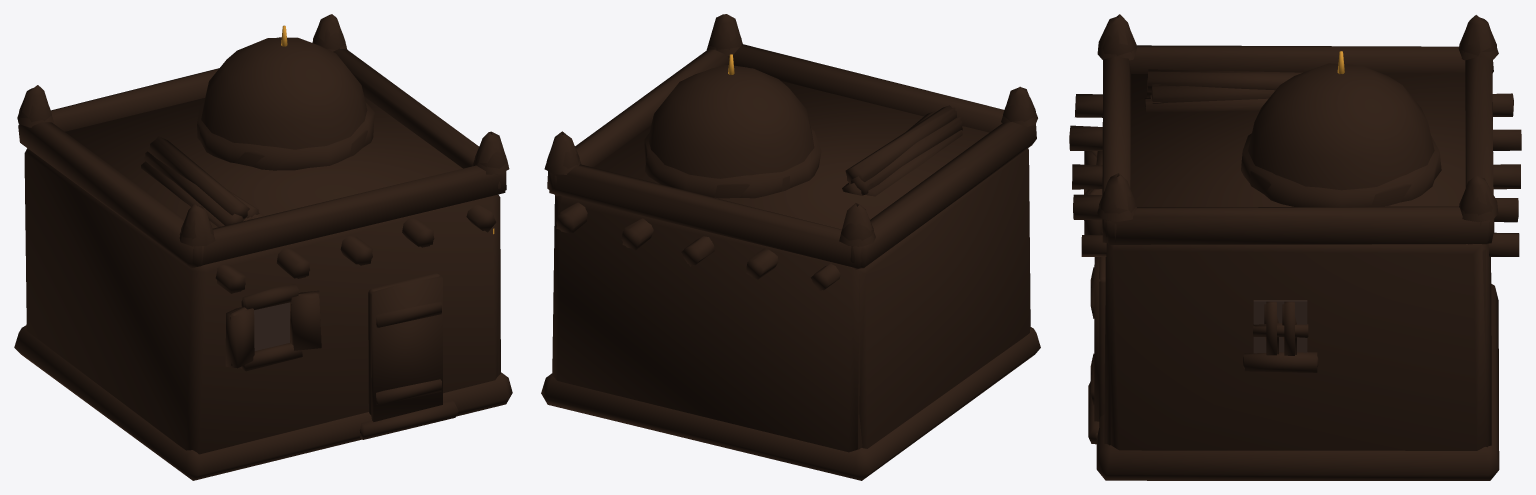
Rendered from house_c.glb.
3 views of the same model, side by side, from view 1: azimuth 30°, elevation 25°; view 2: azimuth 150°, elevation 25°; view 3: azimuth 270°, elevation 25° (orthographic). The views are drawn at different scales.
Parts seen in each view (by area): view 1: house_c_LOD1_outline, house_c_outline, house_c; view 2: house_c_LOD1_outline, house_c_outline; view 3: house_c_LOD1_outline, house_c_outline, house_c.
Part boxes in pixels (x1,y1,x2,y2): house_c_LOD1_outline: (14,14,512,480); house_c_outline: (19,25,507,434); house_c: (254,25,494,350); house_c_LOD1_outline: (541,14,1040,480); house_c_outline: (546,28,1035,449); house_c_LOD1_outline: (1069,14,1521,480); house_c_outline: (1069,22,1521,445); house_c: (1253,51,1344,353).
Size of what is drawn, in the model's own units: 4.89 by 4.67 by 5.22.
